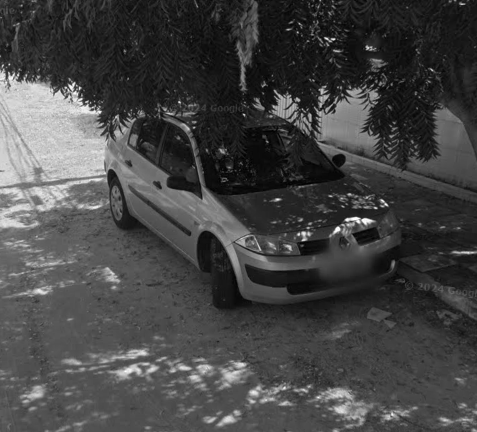car: (102, 101, 404, 312)
